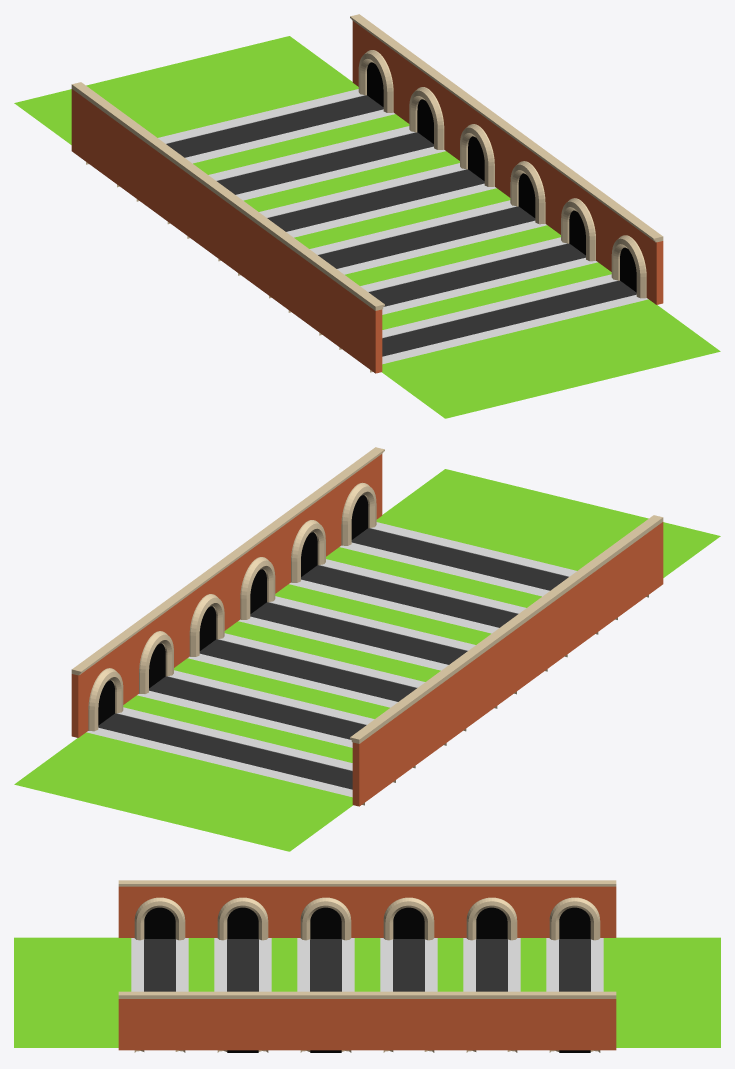
File: roads.fbx
3 renders of one model, top to bottom at view 1: azimuth 30°, elevation 25°; view 2: azimuth 150°, elevation 25°; view 3: azimuth 270°, elevation 25°, orthographic. The views are drawn at different scales.
Parts seen in each view (by area): view 1: Plane, Plane.001, Plane.002; view 2: Plane, Plane.002, Plane.001; view 3: Plane, Plane.001, Plane.002.
Part boxes in pixels (x1,y1,x2,y2): Plane: (71,14,663,373); Plane.001: (382,305,720,418); Plane.002: (14,36,352,144); Plane: (71,447,663,806); Plane.002: (14,738,352,851); Plane.001: (382,469,720,577); Plane: (118,880,616,1052); Plane.001: (14,937,118,1047); Plane.002: (616,937,720,1047).
Size of the model in its own units: 1764 by 435 by 4581.
